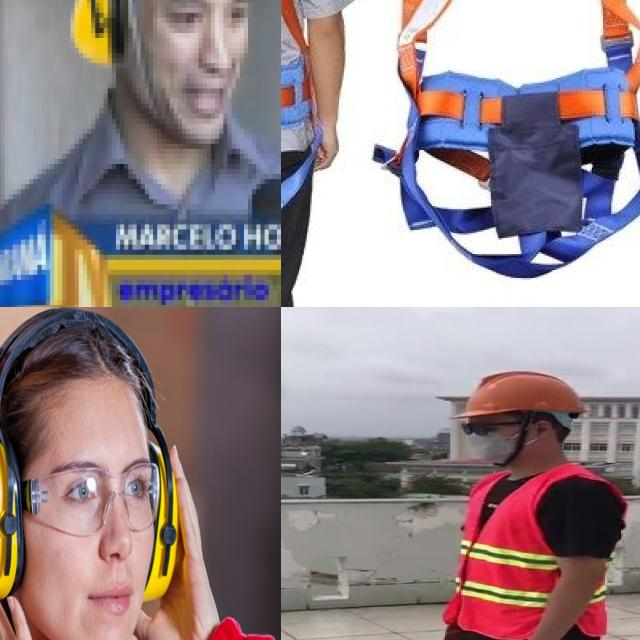Ear-protection: (0, 310, 200, 640), (57, 0, 131, 85)
Harness: (388, 0, 640, 294)
glasses: (3, 468, 165, 526)
head_helmet: (452, 368, 590, 419)
person: (0, 307, 281, 640), (425, 360, 631, 640)
vest: (445, 465, 619, 640)
